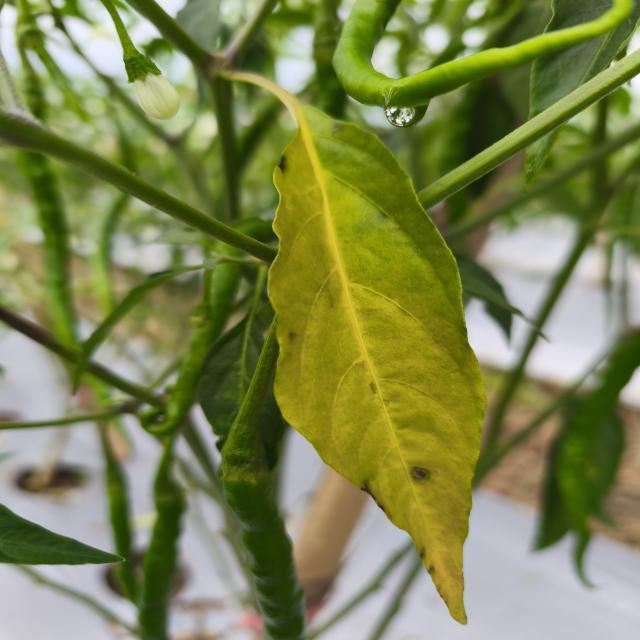Virus Kuning: (264, 103, 488, 624)
